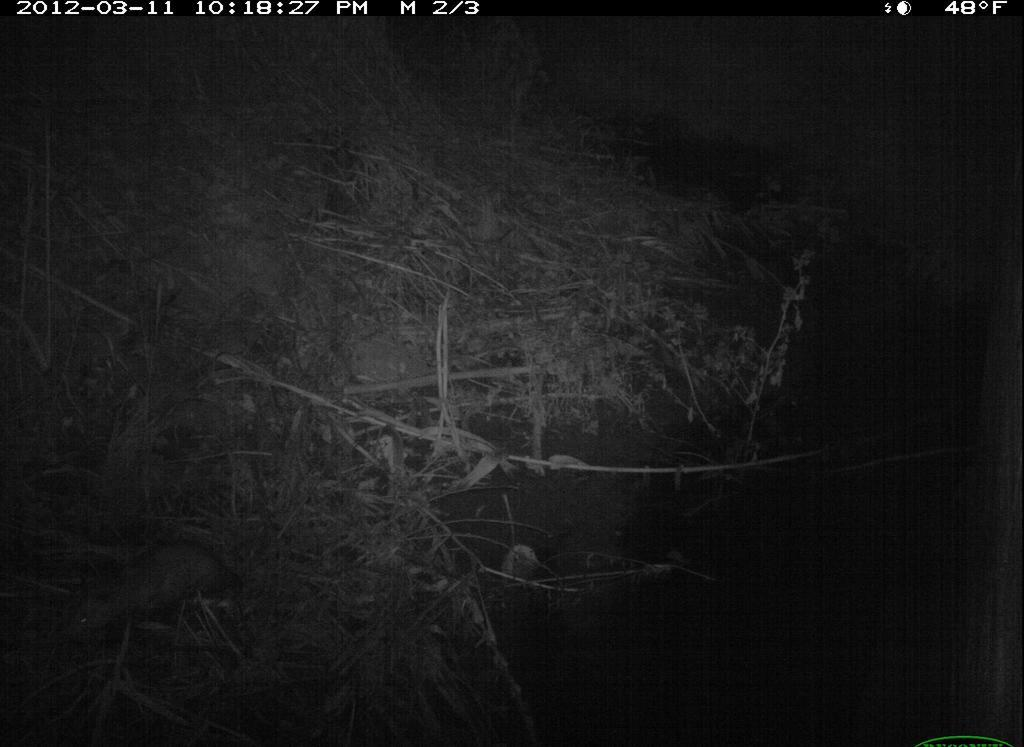opossum: (58, 530, 254, 655)
